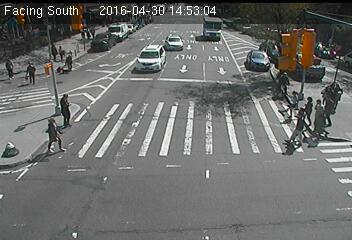neg: (182, 108, 207, 142), (32, 188, 54, 217), (6, 137, 28, 166), (283, 177, 303, 204), (235, 125, 254, 150), (148, 44, 166, 68), (209, 73, 227, 97), (88, 176, 106, 200), (144, 161, 161, 183), (195, 173, 212, 195), (282, 38, 297, 58), (237, 53, 252, 72), (144, 90, 156, 107), (330, 80, 342, 96)
pos: (38, 115, 66, 153), (289, 107, 315, 142), (308, 99, 333, 132), (56, 90, 80, 122), (1, 55, 19, 81), (24, 58, 42, 82), (303, 95, 320, 118), (62, 51, 78, 73), (289, 88, 302, 105), (57, 43, 67, 57)
